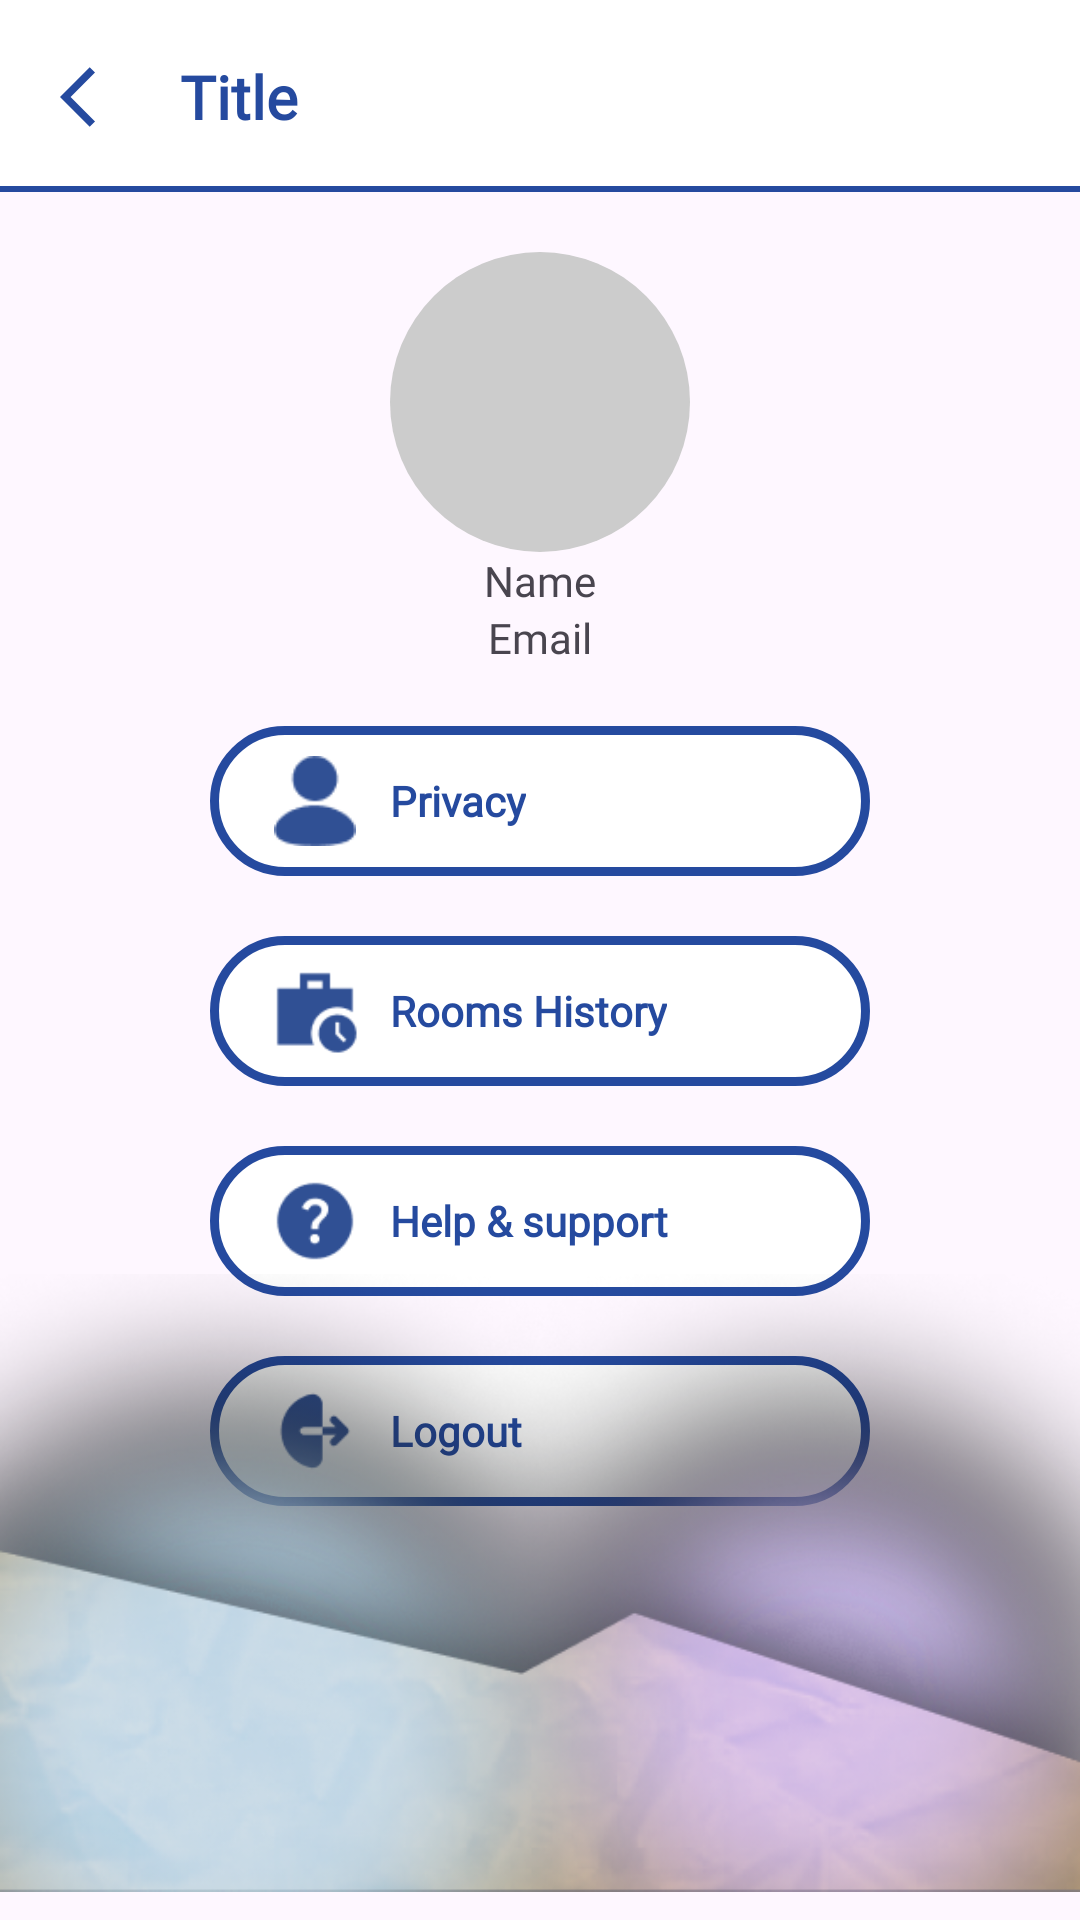

Named icons in this screenshot (1080px×1920px) and their centers, (x,y):
arrow back: (77,97)
user: (315,801)
